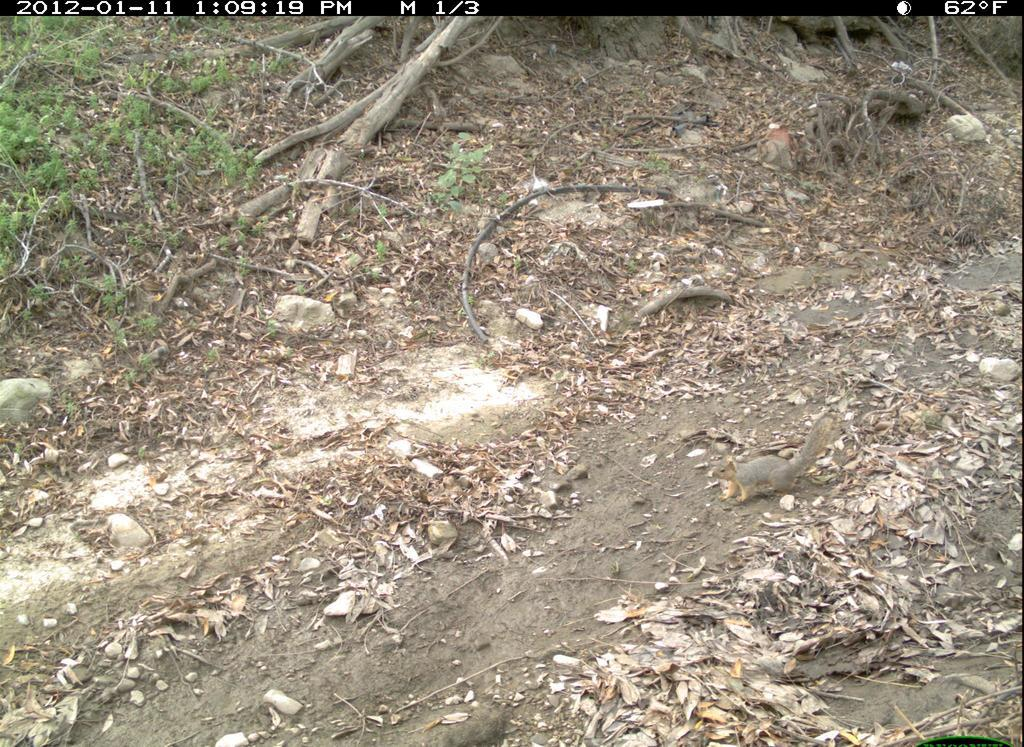squirrel: (705, 408, 841, 510)
